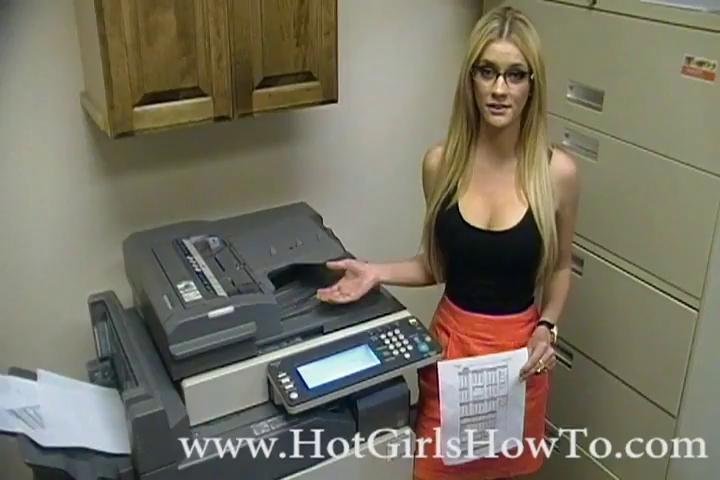victim: (312, 5, 584, 478)
